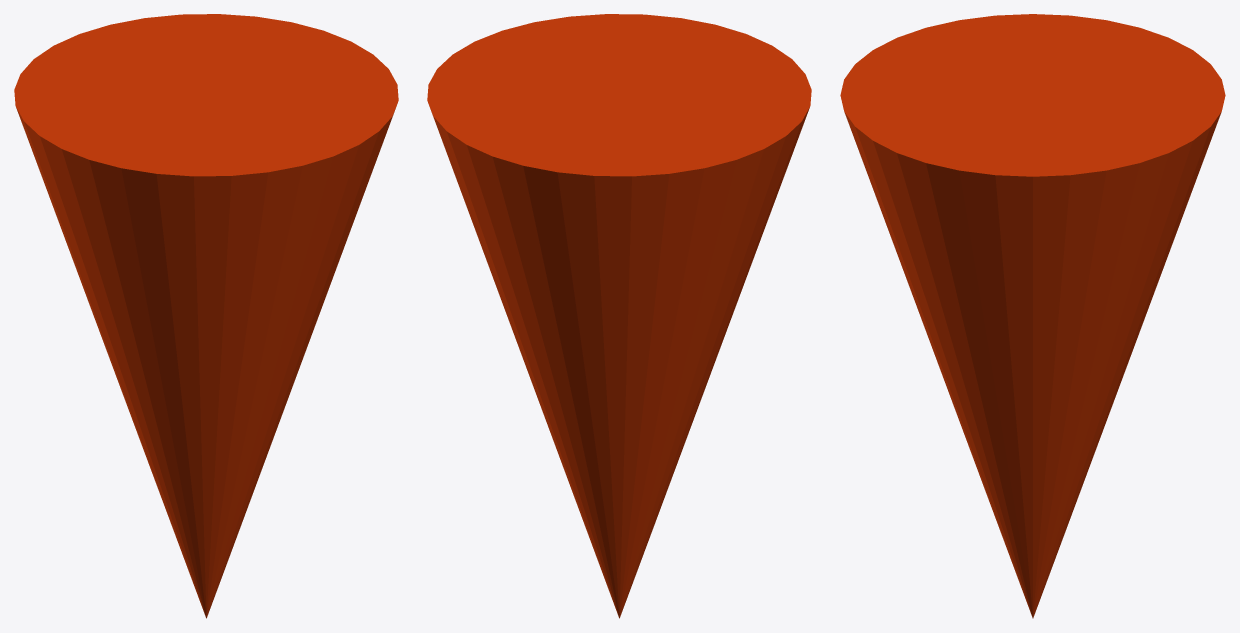
The model's file is conepin.glb.
3 renders of one model, left to right at view 1: azimuth 30°, elevation 25°; view 2: azimuth 150°, elevation 25°; view 3: azimuth 270°, elevation 25°, orthographic.
Visible parts, largest first — view 1: Cone; view 2: Cone; view 3: Cone.
Part boxes in pixels (x1=…): Cone: x1=14, y1=14, x2=398, y2=618; Cone: x1=427, y1=14, x2=811, y2=618; Cone: x1=840, y1=14, x2=1225, y2=618.
Bounding box in the file's own units: 40 × 60 × 40.
